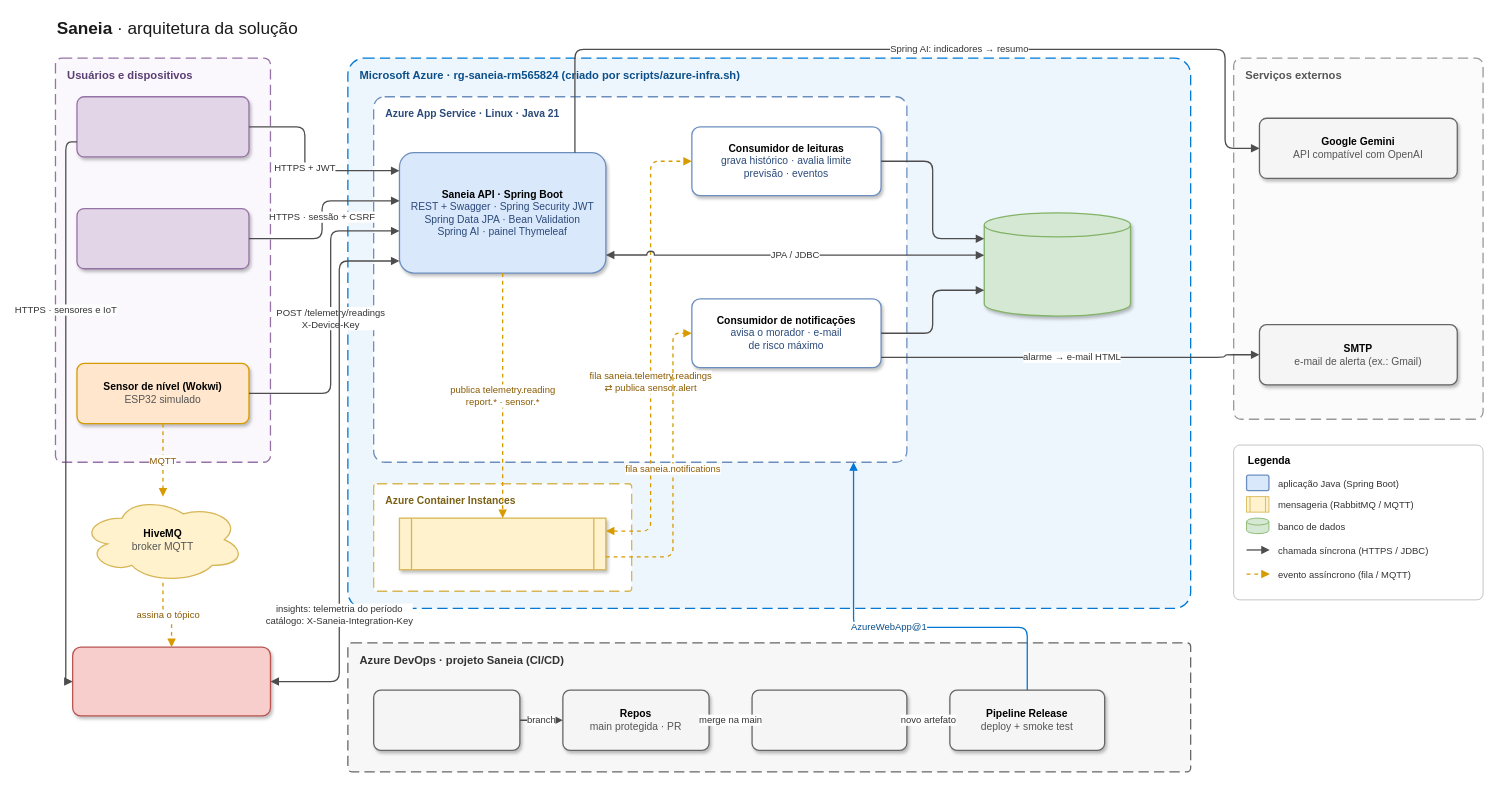
Some shapes in this 1499 by 787 pixel diagram are drawn without their labels. Here are the shapes that lost their labels. From the top down, the centre of each, then its label:
[163,127]: App mobile (Expo) morador · operadora · admin
[163,239]: Painel admin navegador · Thymeleaf
[1058,265]: Azure SQL saneiadb-basic 11 tabelas
[503,545]: RabbitMQ exchange saneia.events · DLQ
[172,682]: API .NET IoT · telemetria · catálogo do app
[447,721]: Boards tarefa
[830,721]: Pipeline CI Maven · JUnit · JaCoCo artefato saneia-api
